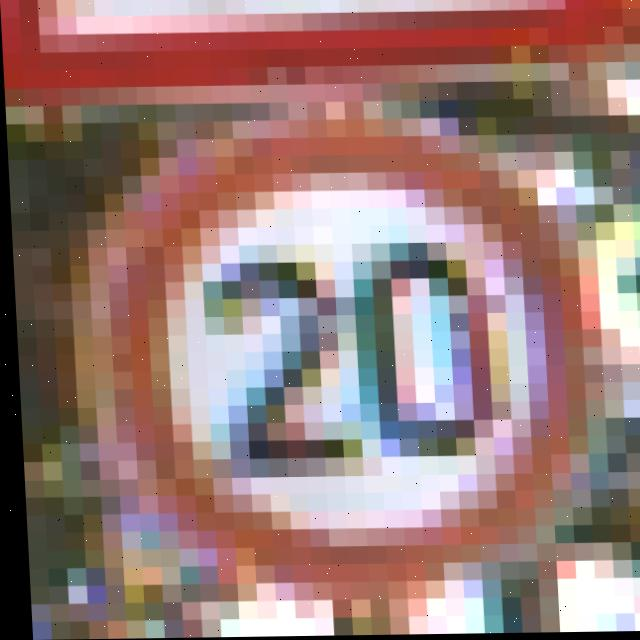speed_limit_20: (100, 107, 623, 605)
